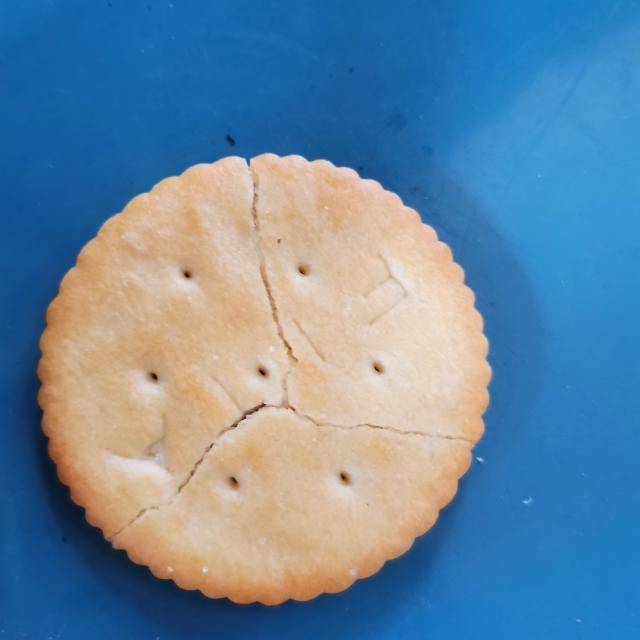Fracture: (93, 156, 485, 554)
